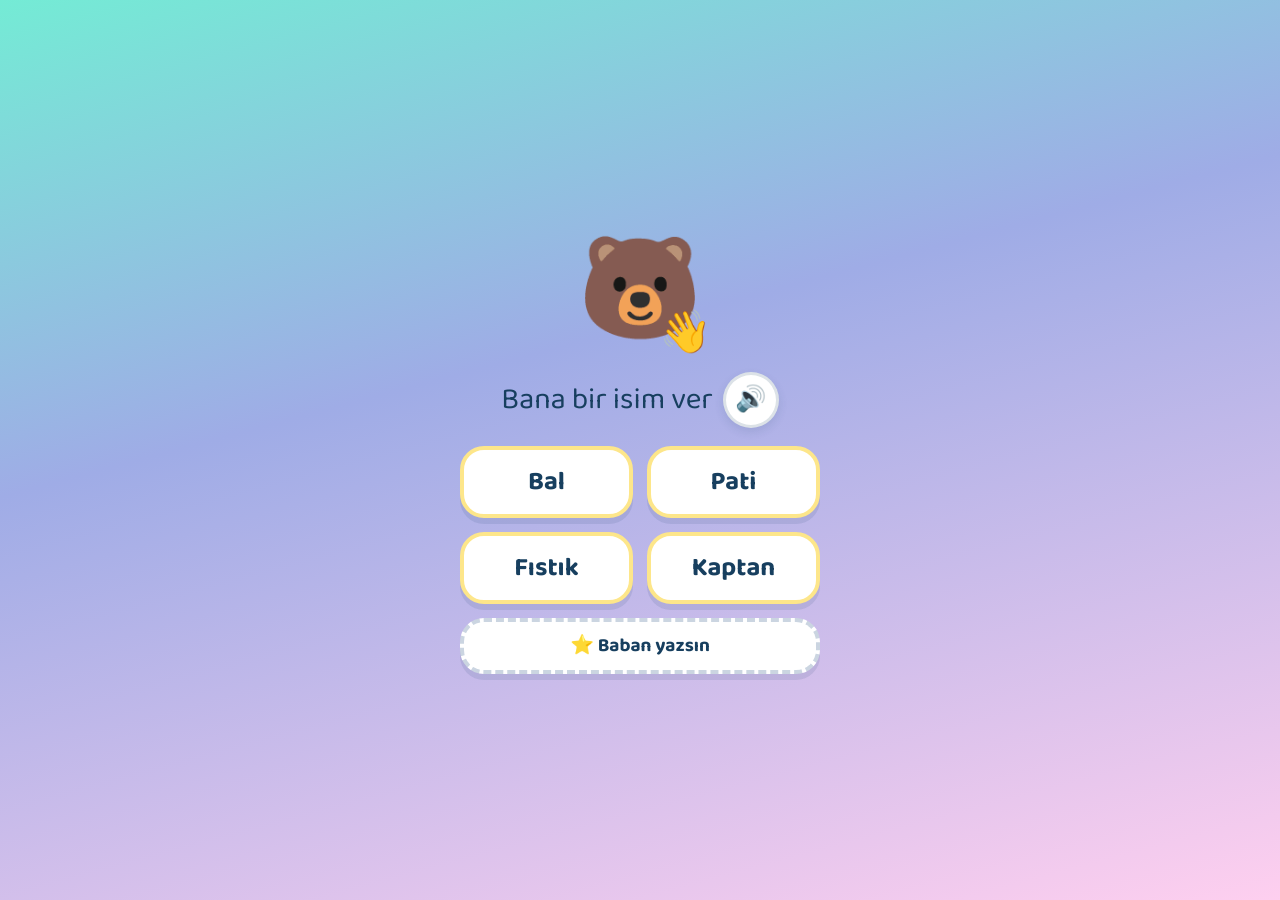
NameTheBear › Baban yazsın aritmetik kapının arkasındadır
The width and height of the screenshot is (1280, 900).
Click the button "⭐ Baban yazsın" at point(640, 646), box [460,618,820,674]
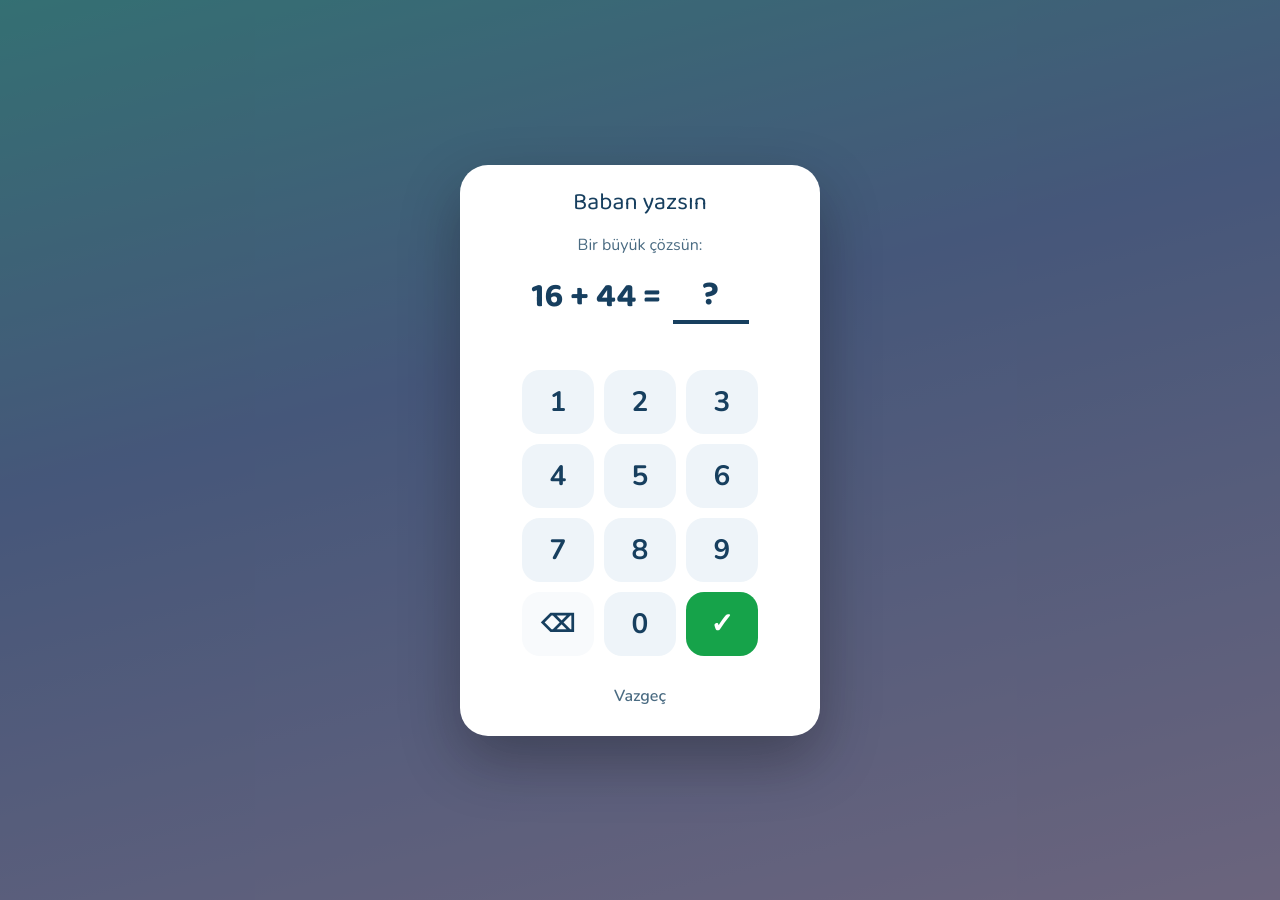
Result: the dialog is shown at [460,164,820,736]
